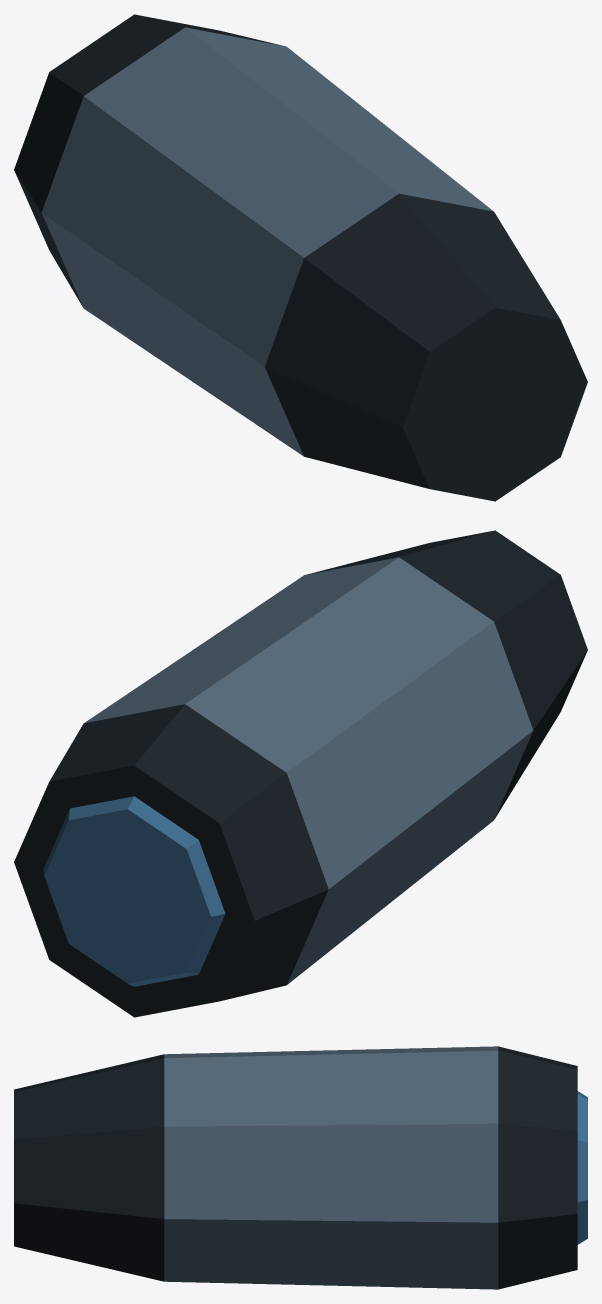
The model's file is FangEngineLeft.obj.
The picture shows the model from 3 angles, top to bottom: view 1: azimuth 30°, elevation 25°; view 2: azimuth 150°, elevation 25°; view 3: azimuth 270°, elevation 25°; orthographic projection. The views are drawn at different scales.
Visible parts, largest first — view 1: port_engine; view 2: port_engine, port_exhaust; view 3: port_engine, port_exhaust.
Boxes of the visible parts, box(x1,y1,x2,y2) form: port_engine: box(14, 14, 587, 501); port_engine: box(14, 530, 587, 1017); port_exhaust: box(43, 796, 225, 986); port_engine: box(14, 1046, 577, 1289); port_exhaust: box(577, 1091, 587, 1244).
Size of the model in its own units: 0.62 by 0.62 by 1.38.
